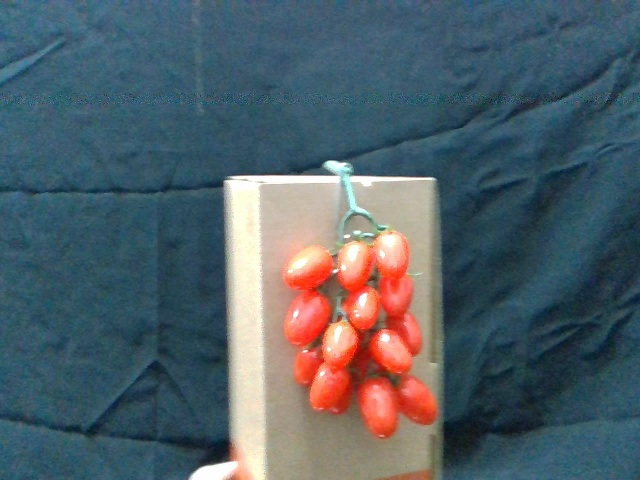tomato: (359, 375, 401, 439), (284, 292, 332, 347), (310, 364, 353, 417), (371, 328, 414, 379), (395, 374, 437, 426), (286, 247, 333, 292), (338, 241, 375, 294), (325, 320, 363, 368), (344, 286, 380, 335), (380, 273, 416, 322), (387, 310, 427, 354), (375, 231, 412, 277), (288, 346, 326, 389)
